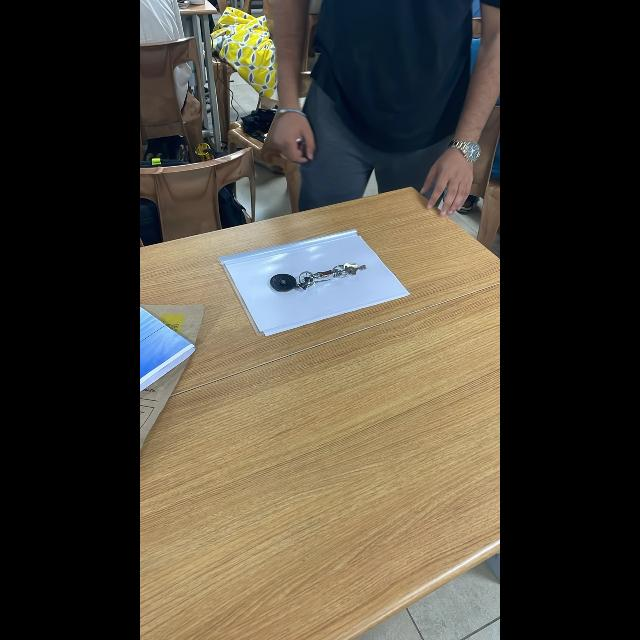keys: (261, 254, 381, 296)
